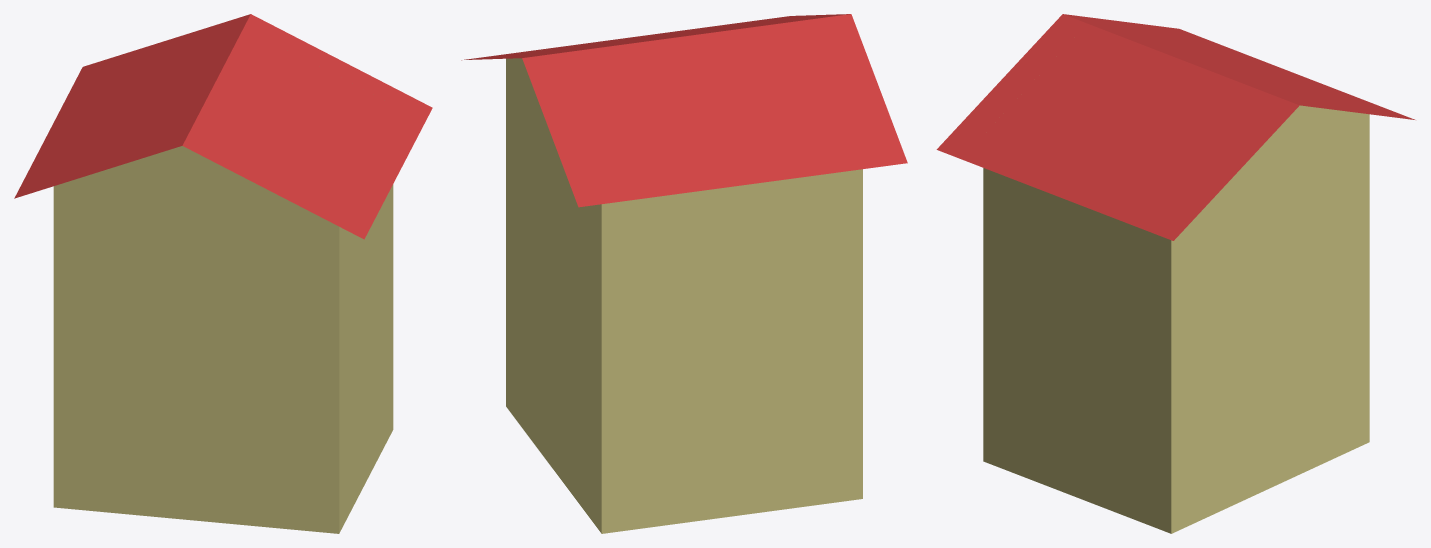
3 views of the same model, side by side, from view 1: azimuth 30°, elevation 25°; view 2: azimuth 150°, elevation 25°; view 3: azimuth 270°, elevation 25° (orthographic). The views are drawn at different scales.
Bounding box in the file's own units: 10.89 × 10.84 × 9.71.
